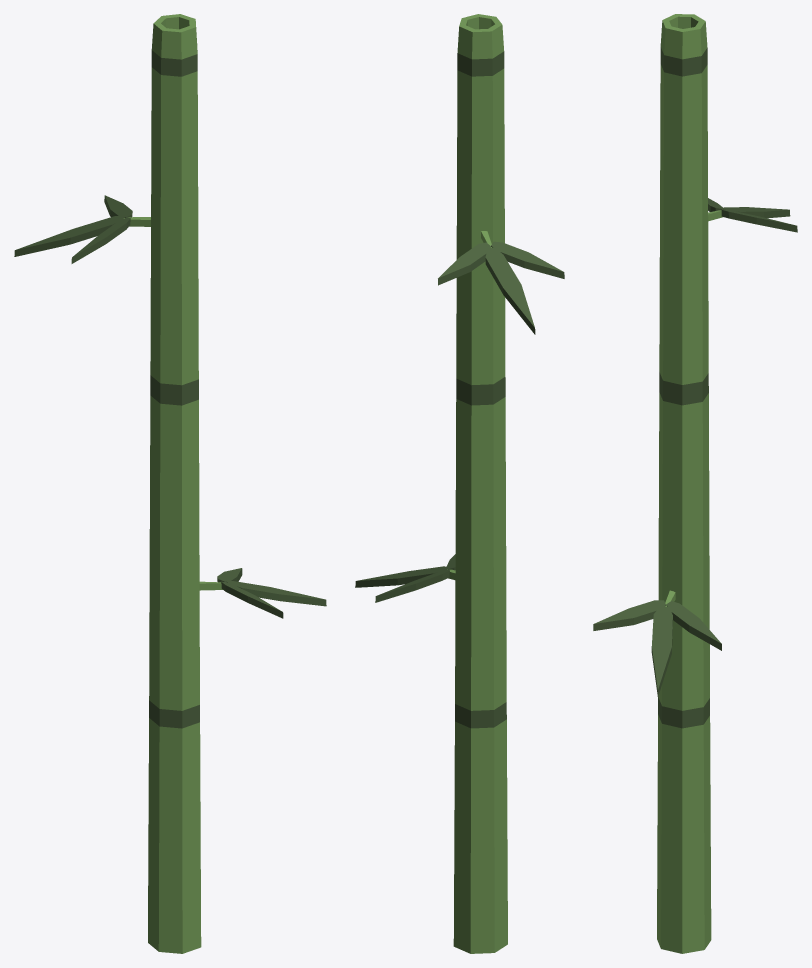
File: Bamboo_2.glb
3 renders of one model, left to right at view 1: azimuth 30°, elevation 25°; view 2: azimuth 150°, elevation 25°; view 3: azimuth 270°, elevation 25°, orthographic.
Parts seen in each view (by area): view 1: Green, DarkGreen2; view 2: Green, DarkGreen2; view 3: Green, DarkGreen2.
Part boxes in pixels (<box>): Green: <box>123,14,222,953</box>; DarkGreen2: <box>14,50,326,728</box>; Green: <box>447,14,507,953</box>; DarkGreen2: <box>355,51,564,728</box>; Green: <box>657,14,723,953</box>; DarkGreen2: <box>593,47,797,728</box>.
Bounding box in the file's own units: 0.2053 × 0.733 × 0.1475.
